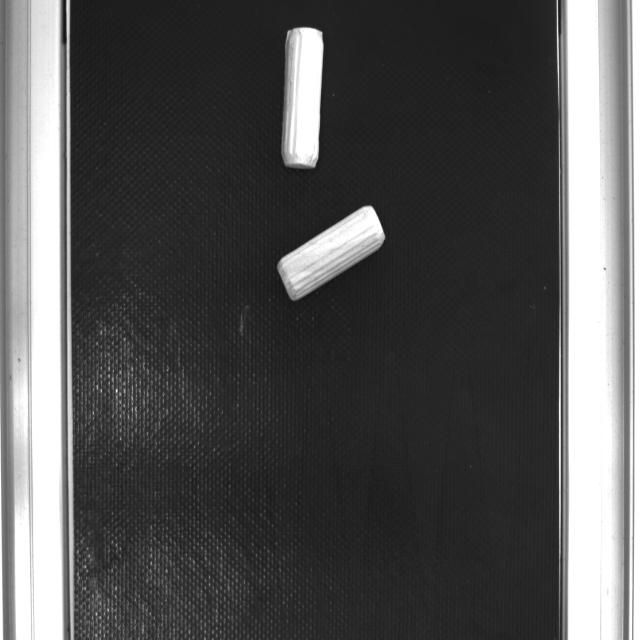Chot go: (276, 199, 391, 304), (281, 26, 325, 169)
